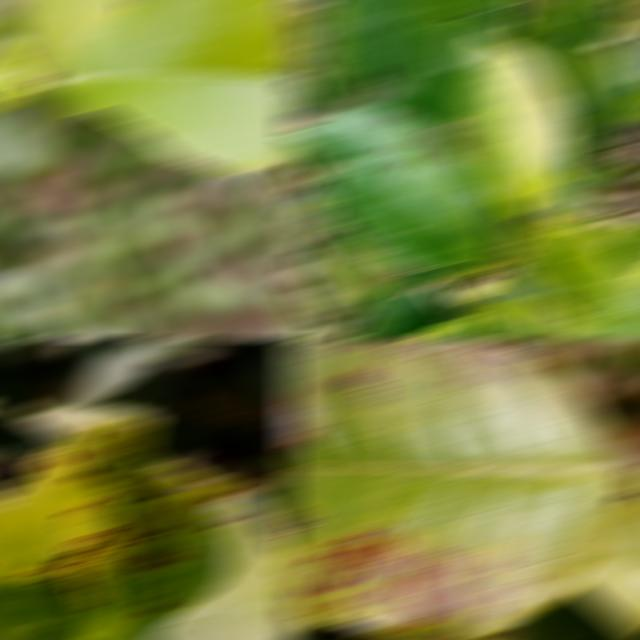Leaf: (281, 340, 633, 636), (0, 409, 295, 638), (41, 2, 295, 171), (282, 108, 504, 267), (466, 33, 573, 212), (516, 15, 618, 196), (350, 2, 459, 121), (427, 16, 527, 122), (544, 228, 640, 338), (571, 498, 640, 633), (16, 2, 134, 74), (314, 2, 380, 107), (352, 272, 454, 338), (306, 228, 385, 311), (503, 592, 640, 638), (533, 21, 592, 111), (571, 45, 640, 115), (476, 300, 590, 338), (0, 107, 60, 178), (516, 228, 577, 296), (563, 217, 640, 264), (281, 283, 340, 338), (559, 2, 621, 42), (373, 83, 430, 119), (614, 33, 640, 91), (423, 268, 458, 288)
